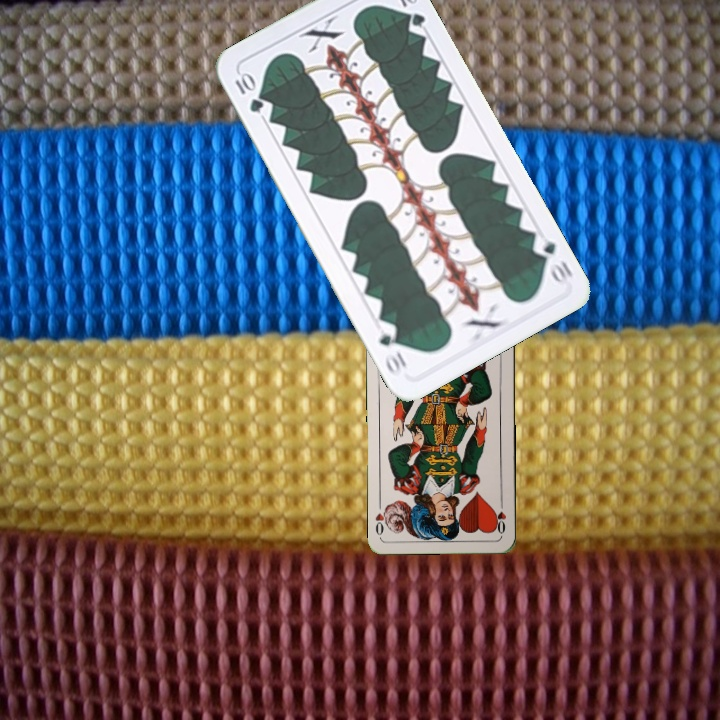G10: (528, 231, 575, 286), (231, 68, 266, 116)
HO: (491, 496, 508, 536)
